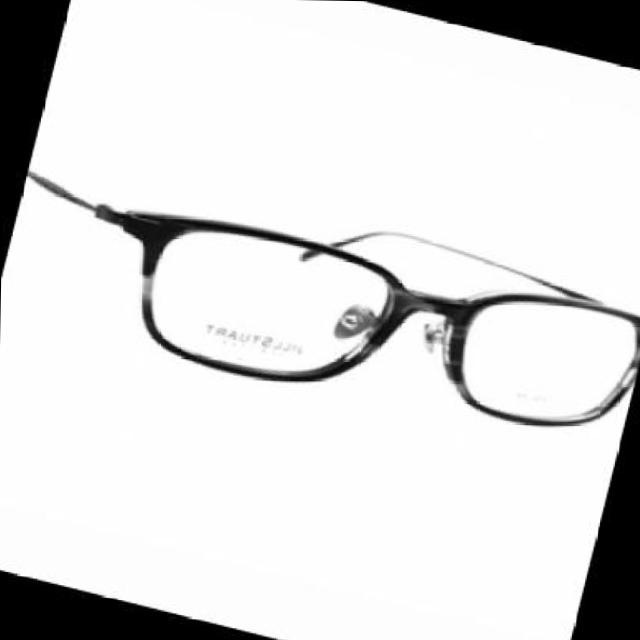glasses: (0, 140, 640, 470)
